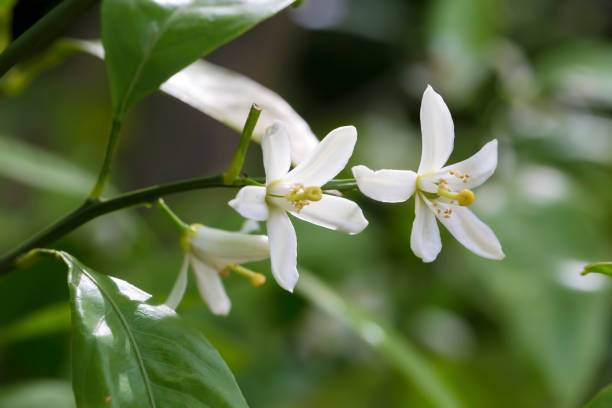flower: (356, 84, 519, 282), (219, 115, 370, 285), (157, 209, 280, 313)
